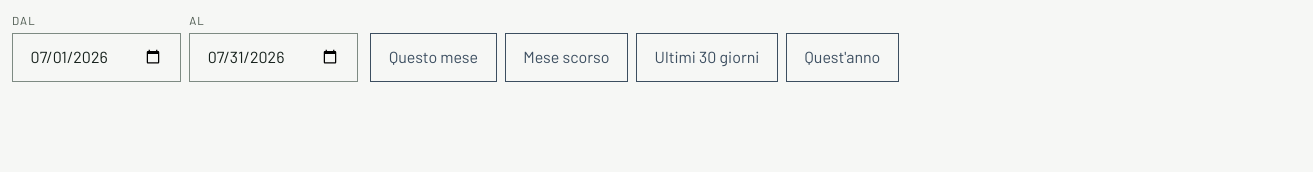
Test: intervallo scelto a mano › segnala un intervallo troppo ampio
This screenshot has width=1313, height=172.
In the date field below "Dal": (97, 58) [12,33,181,82], type "2020-01-01"
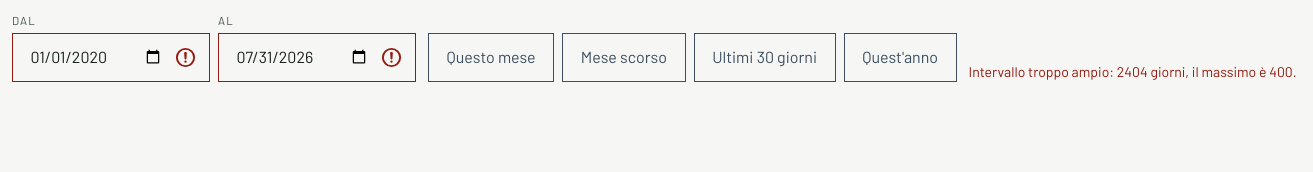
expect the text "Intervallo troppo ampio: 2404 giorni, il massimo è 400." is shown: met, box [968,61,1297,82]
